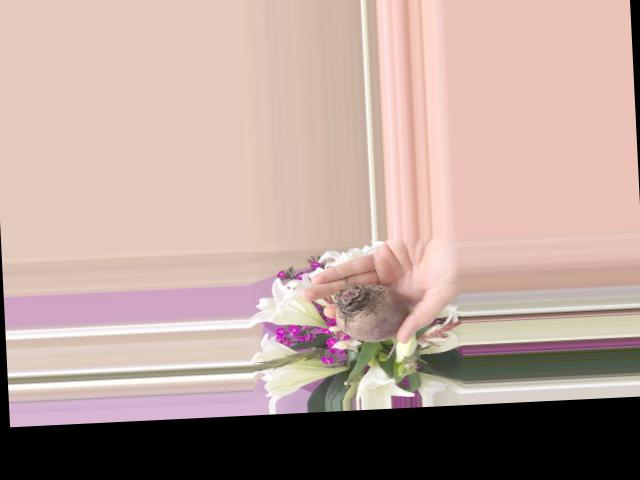beet: (333, 282, 411, 361)
